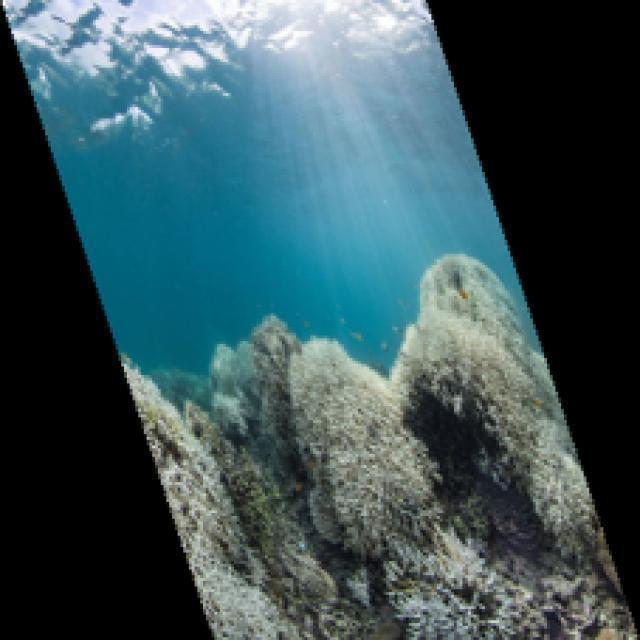Dead Coral: (375, 231, 595, 584), (105, 274, 268, 640), (258, 297, 433, 576), (370, 543, 577, 640)
